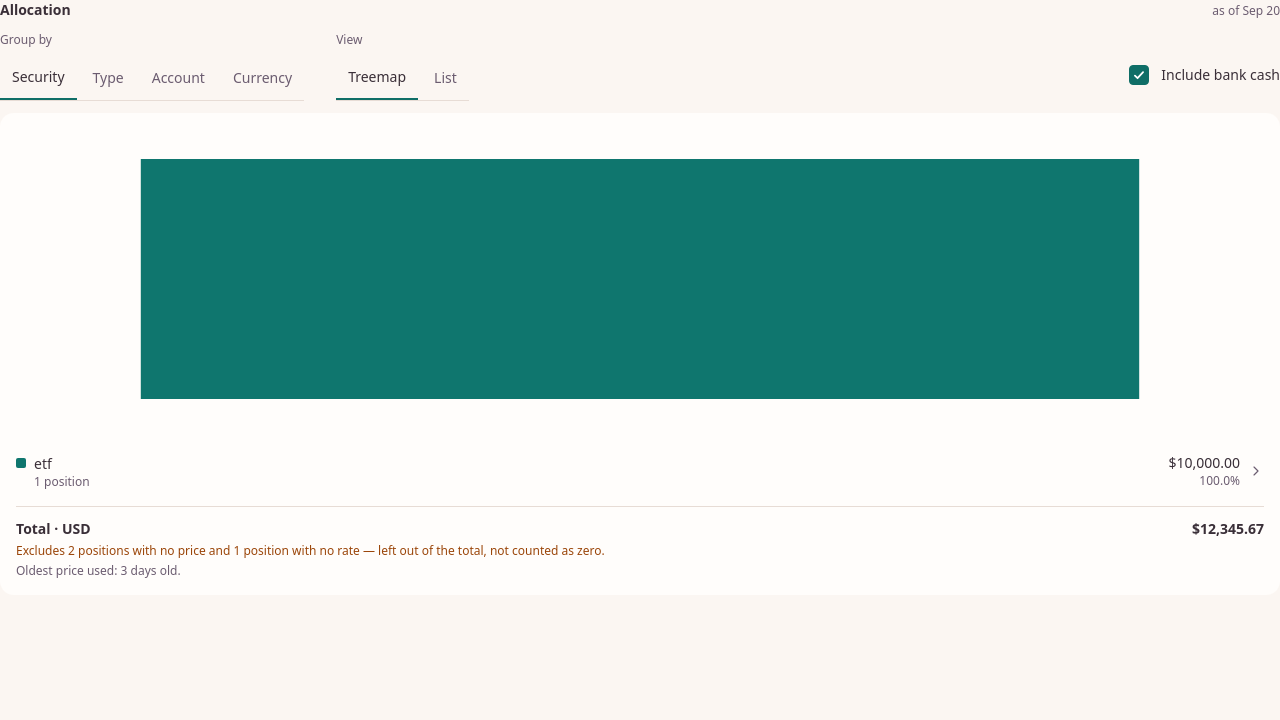
Test: <Allocations /> › does not show quantity × price for a non-security grouping's sources
Click the tab with test id "allocation-groupby-type".
click(108, 78)  # box [80,56,136,100]
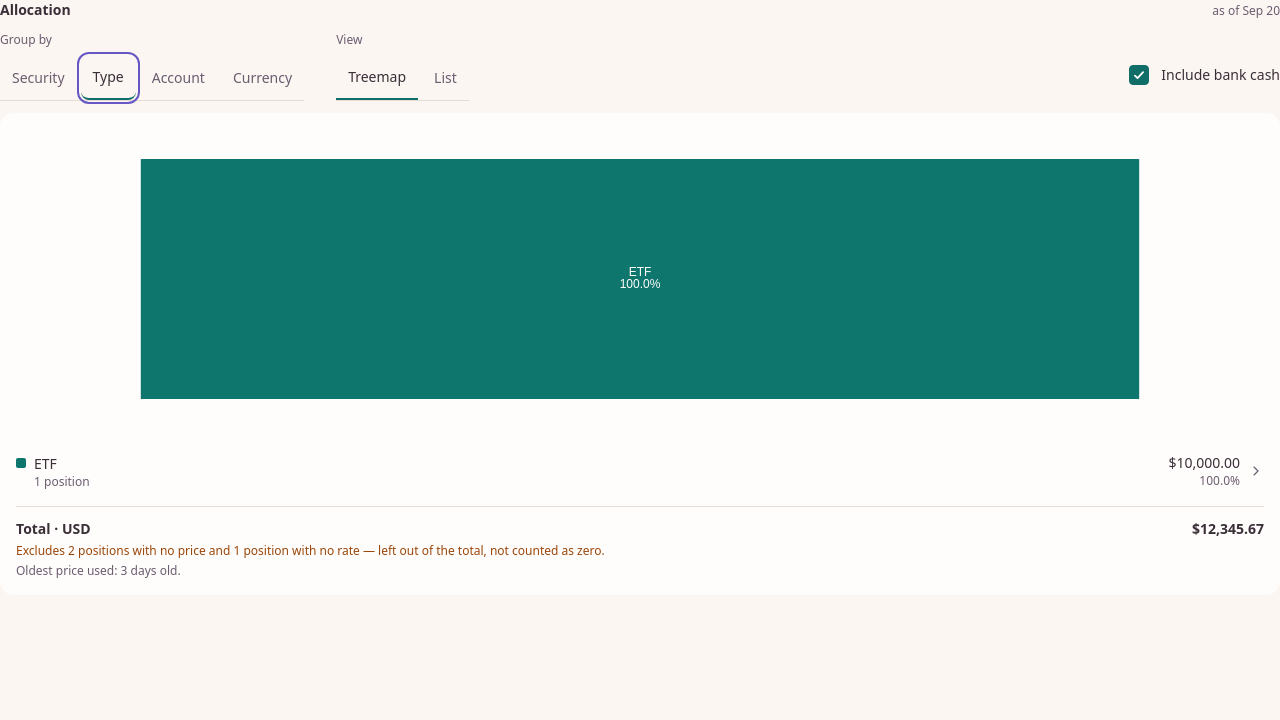
Click the button with test id "allocation-row-etf".
click(67, 482)  # box [16,445,1264,498]
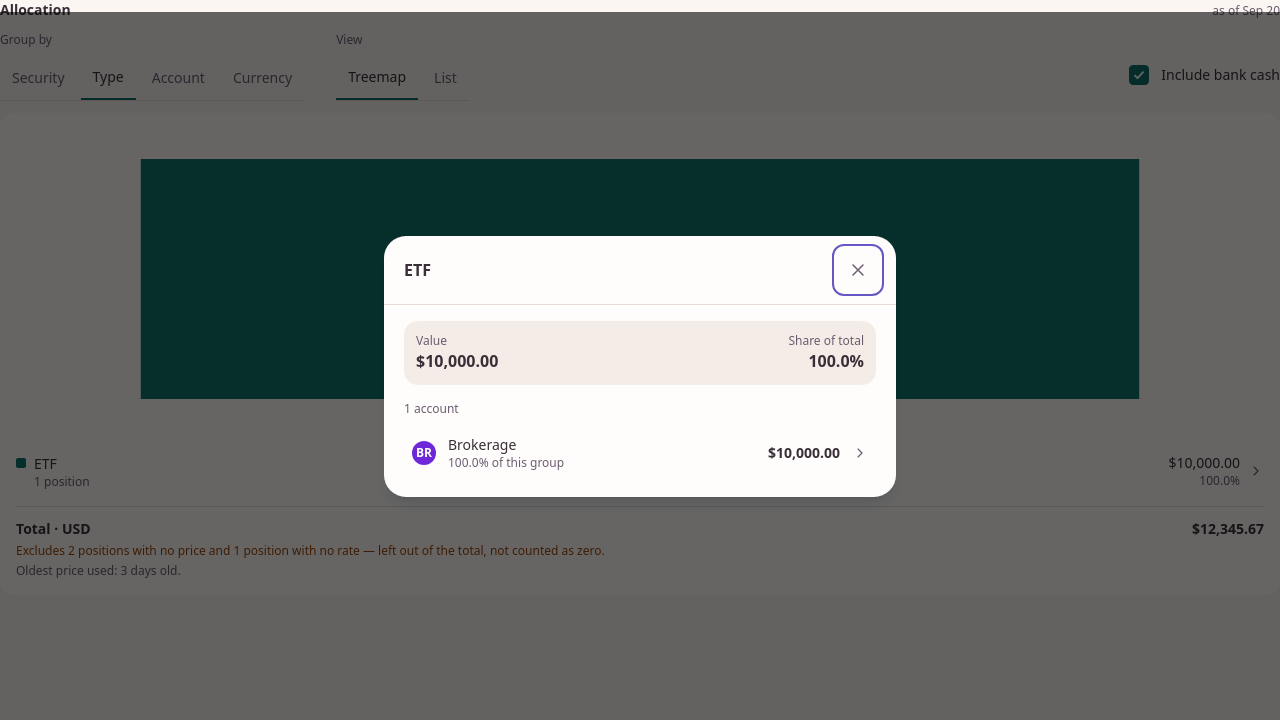
expect the link with test id "allocation-detail-source-acc-1" does not show "×": met, box [404,424,876,480]
expect the link with test id "allocation-detail-source-acc-1" shows "100.0% of this group": met, box [404,424,876,480]
